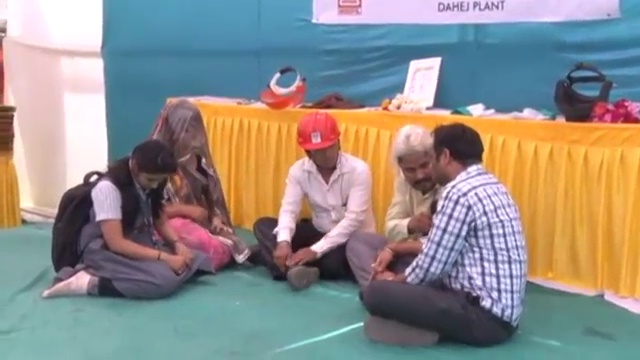helmet: (293, 113, 344, 155)
helmet_off: (430, 124, 483, 189), (120, 139, 181, 195), (156, 102, 209, 163), (390, 125, 436, 195)
helmet_on: (293, 110, 344, 172)
person: (360, 122, 528, 348), (44, 137, 200, 300), (250, 108, 377, 288), (154, 100, 243, 275), (344, 125, 437, 286)
